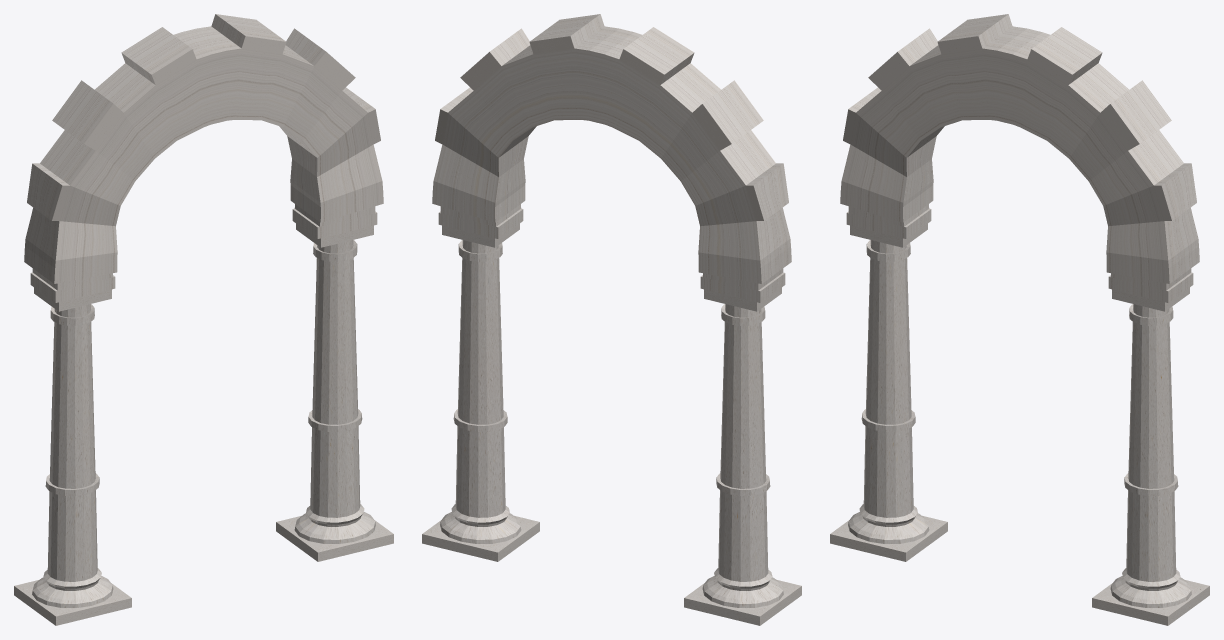
File: stone_archway.fbx
3 views of the same model, side by side, from view 1: azimuth 30°, elevation 25°; view 2: azimuth 150°, elevation 25°; view 3: azimuth 330°, elevation 25° (orthographic).
Visible parts, largest first — view 1: Stone Archway; view 2: Stone Archway; view 3: Stone Archway.
Boxes of the visible parts, left/top/right/bottom form: Stone Archway: left=14, top=14, right=393, bottom=625; Stone Archway: left=422, top=14, right=801, bottom=625; Stone Archway: left=830, top=14, right=1209, bottom=625.
Bounding box in the file's own units: 719 × 1093 × 154.
